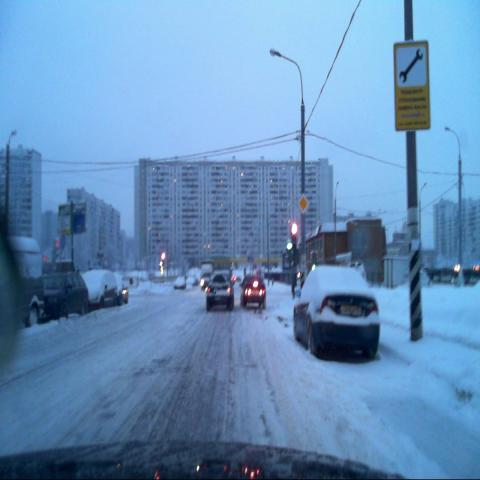2_1: (298, 194, 308, 214)
